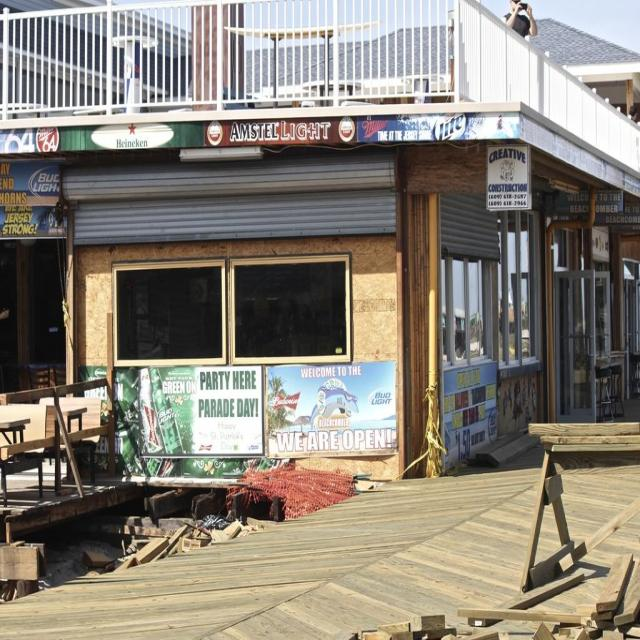table: (511, 413, 622, 599)
